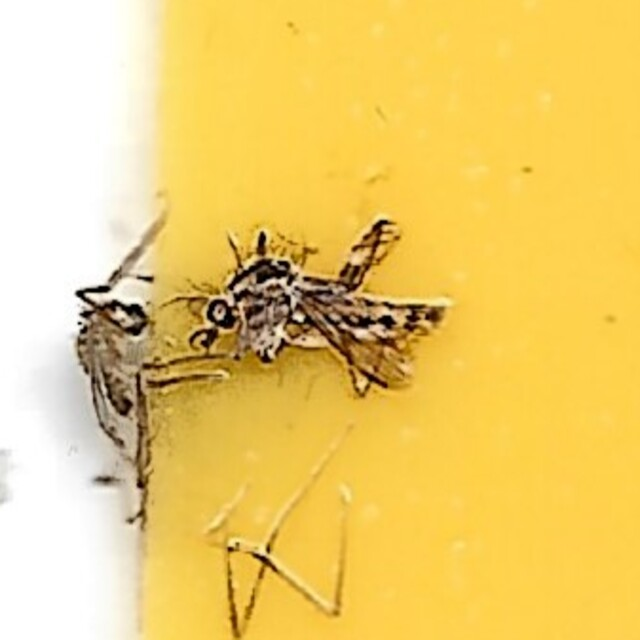Nematocera: (190, 227, 450, 413)
